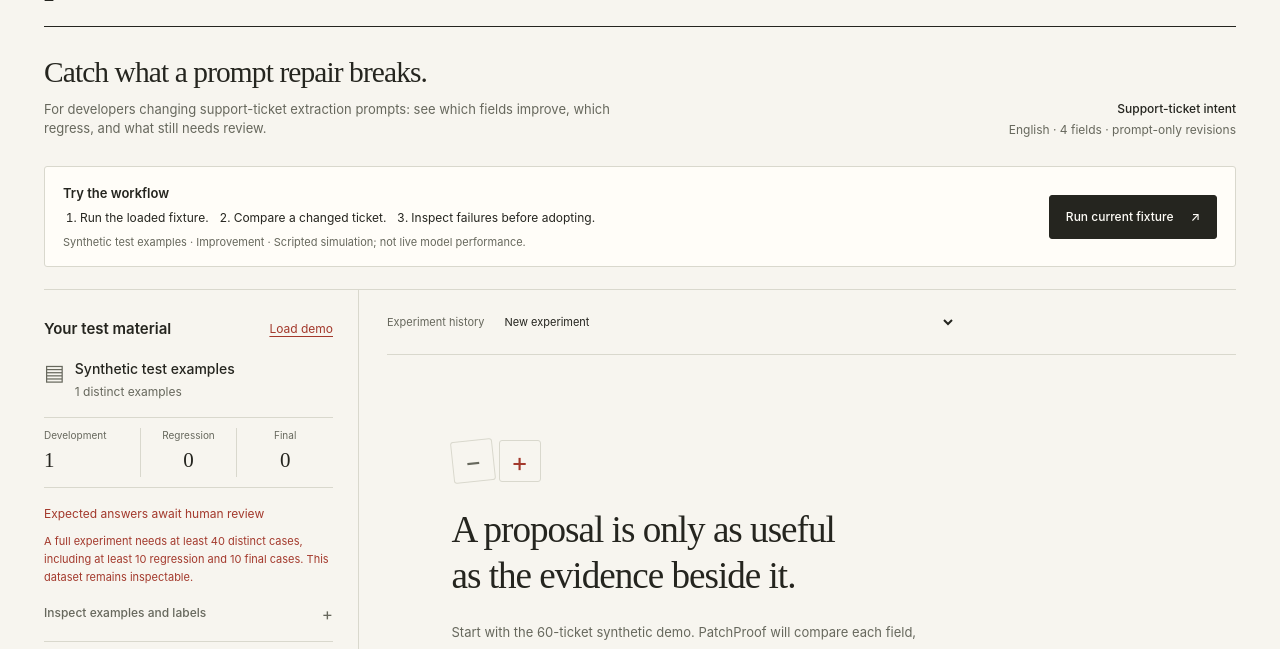
Test: fixture evidence workspace › preserves history chosen before the initial active-status response resolves
This screenshot has width=1280, height=649.
expect the text "Synthetic test examples" is shown: met, box [75,360,235,379]
Select "21 Oct, 00:00 — Fixture simulation — regression — completed" in the dropdown labelled "Experiment history" at {"x": 726, "y": 322}, box [496,304,956,342]
(page scrolled)
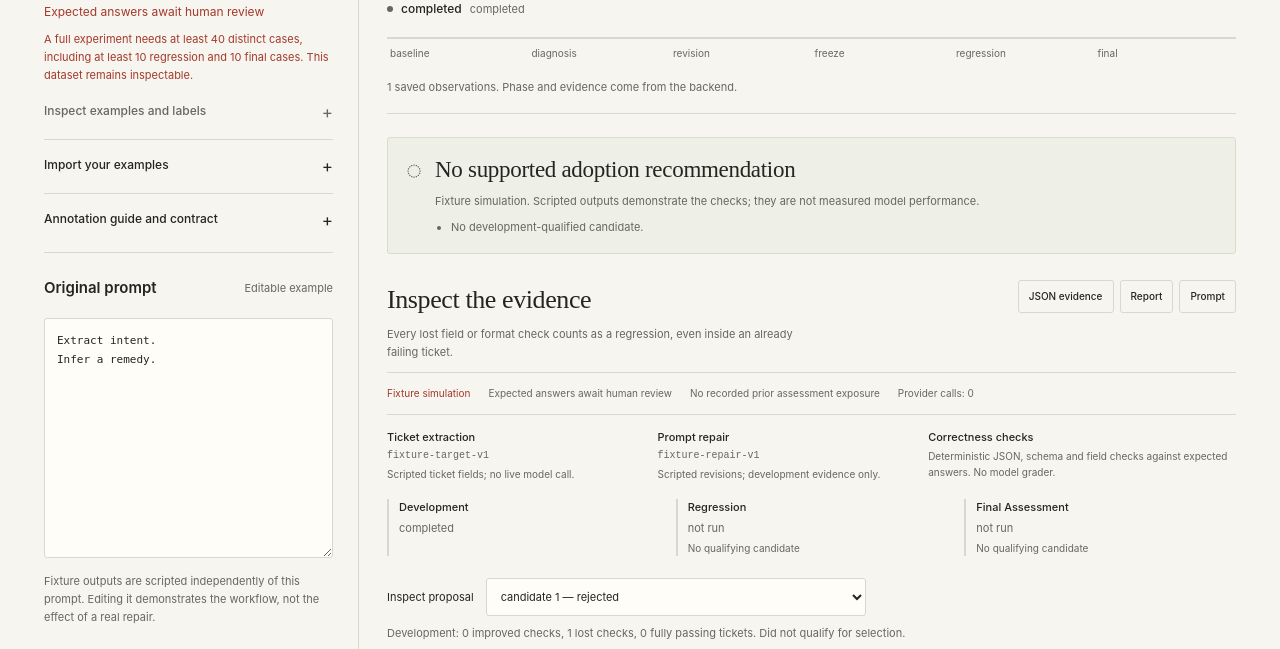
expect the heading "Inspect the evidence" is shown: met, box [387,285,591,314]
